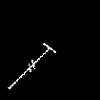treble_crochet: (9, 43, 55, 88)
